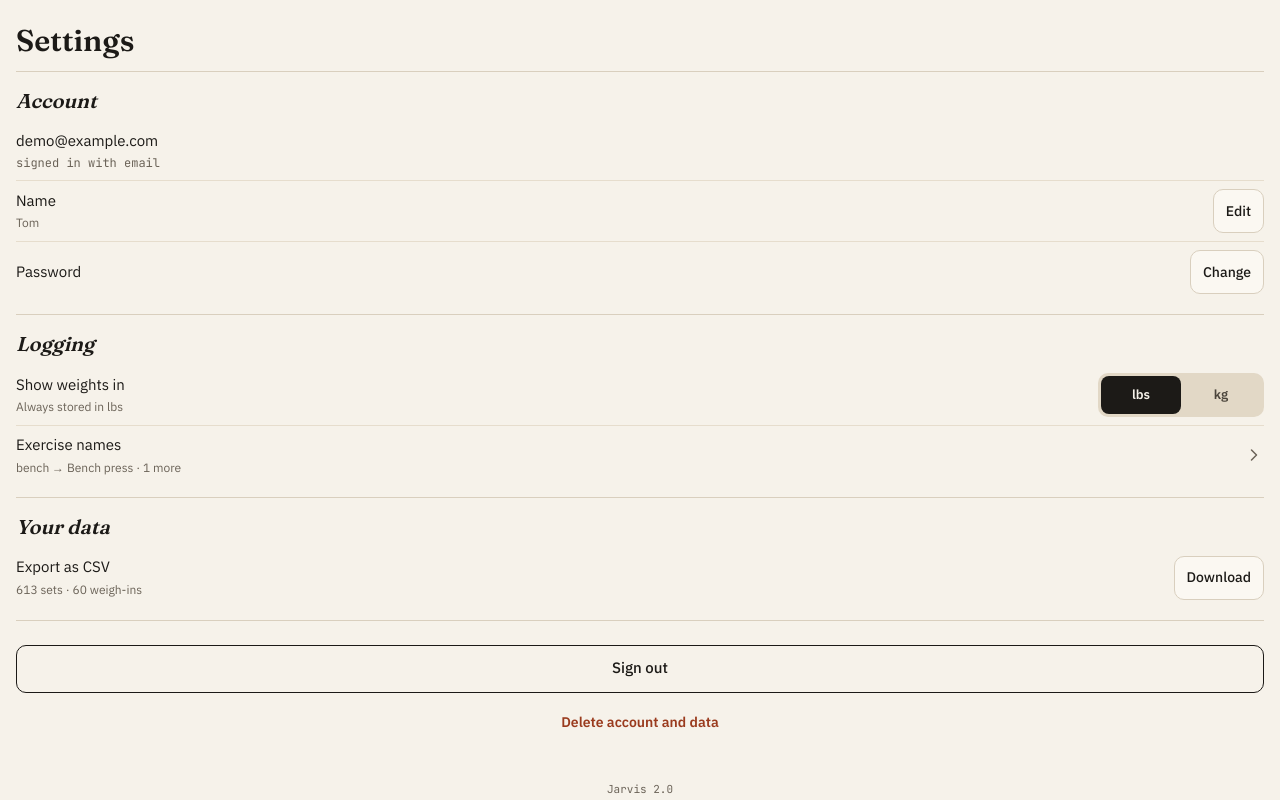
Test: Settings › offers a password change to every email/password account, the demo account included
expect the text "signed in with email" is shown: met, box [16,154,160,172]
Click the button "Change" at (1227, 272), box [1190,250,1264,294]
(page scrolled)
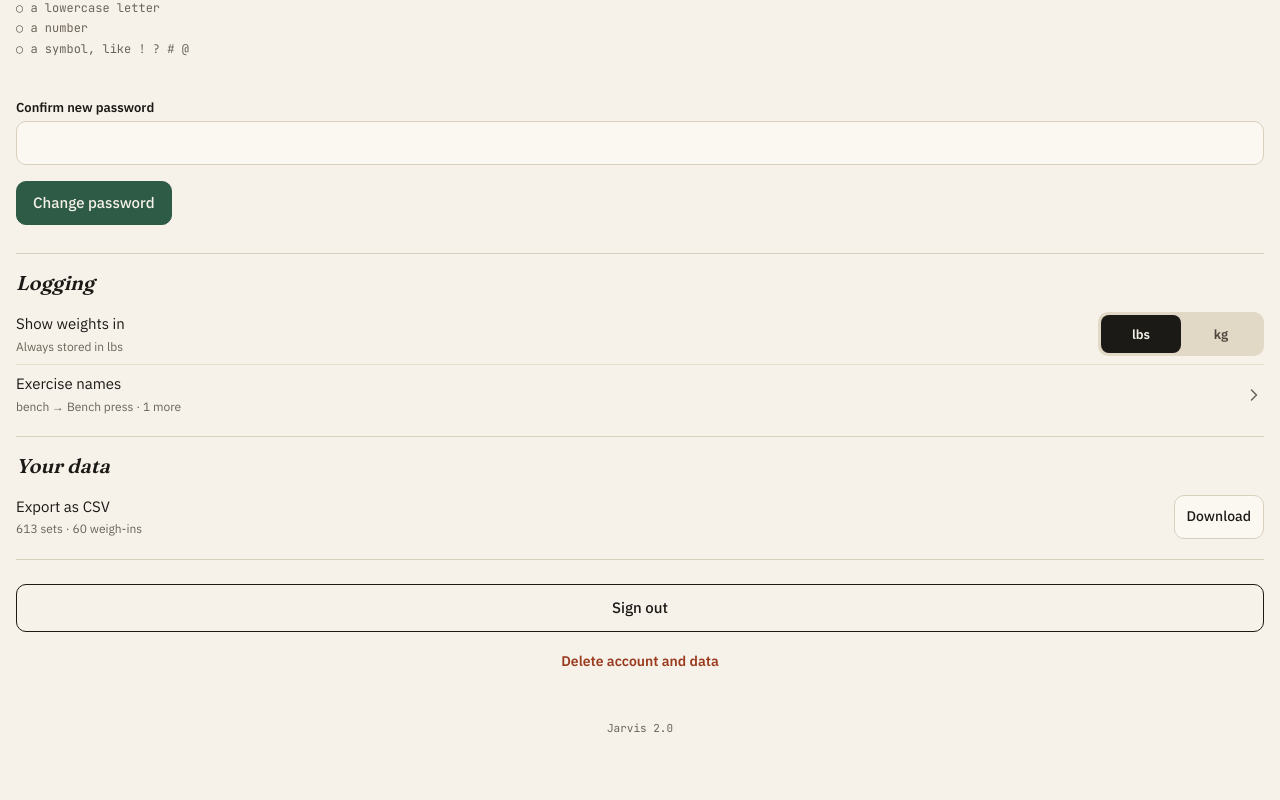
expect the button "Delete account and data" is shown: met, box [549,640,731,684]
expect the button "Change password" is shown: met, box [16,182,172,226]
